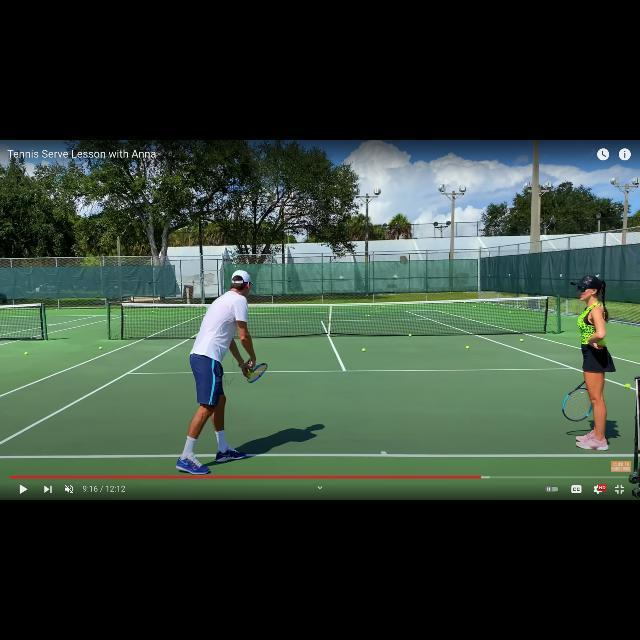tennis-ball: (625, 384, 630, 389), (465, 345, 469, 349), (519, 339, 523, 342), (362, 349, 365, 352), (25, 352, 28, 355), (99, 347, 101, 350), (409, 334, 411, 336)
